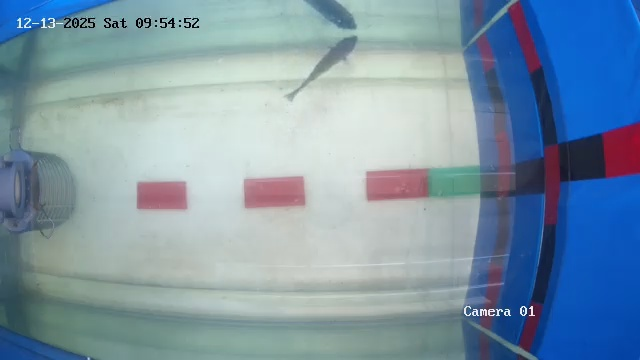fish: (292, 31, 379, 107)
